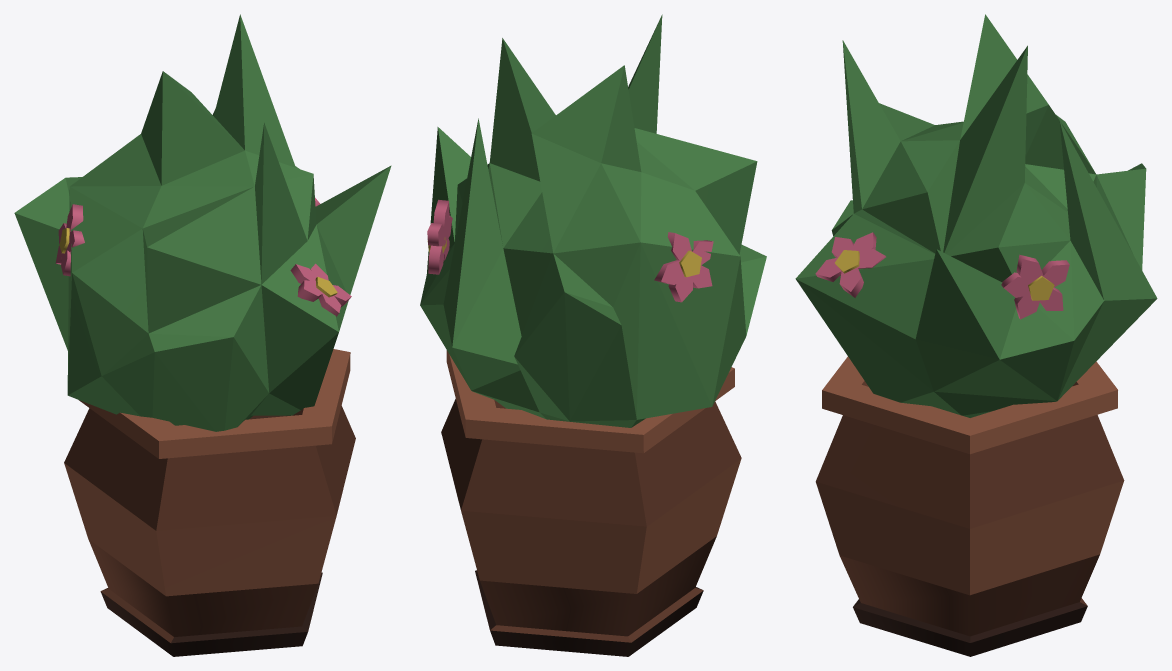
Rendered from flowerpot03.fbx.
3 renders of one model, left to right at view 1: azimuth 30°, elevation 25°; view 2: azimuth 150°, elevation 25°; view 3: azimuth 270°, elevation 25°, orthographic. The views are drawn at different scales.
Visible parts, largest first — view 1: flowerpot03; view 2: flowerpot03; view 3: flowerpot03.
Part boxes in pixels (x1,y1,x2,y2): flowerpot03: [14, 14, 391, 656]; flowerpot03: [420, 14, 766, 656]; flowerpot03: [795, 14, 1157, 656].
Bounding box in the file's own units: 32.52 × 57.55 × 32.14.
